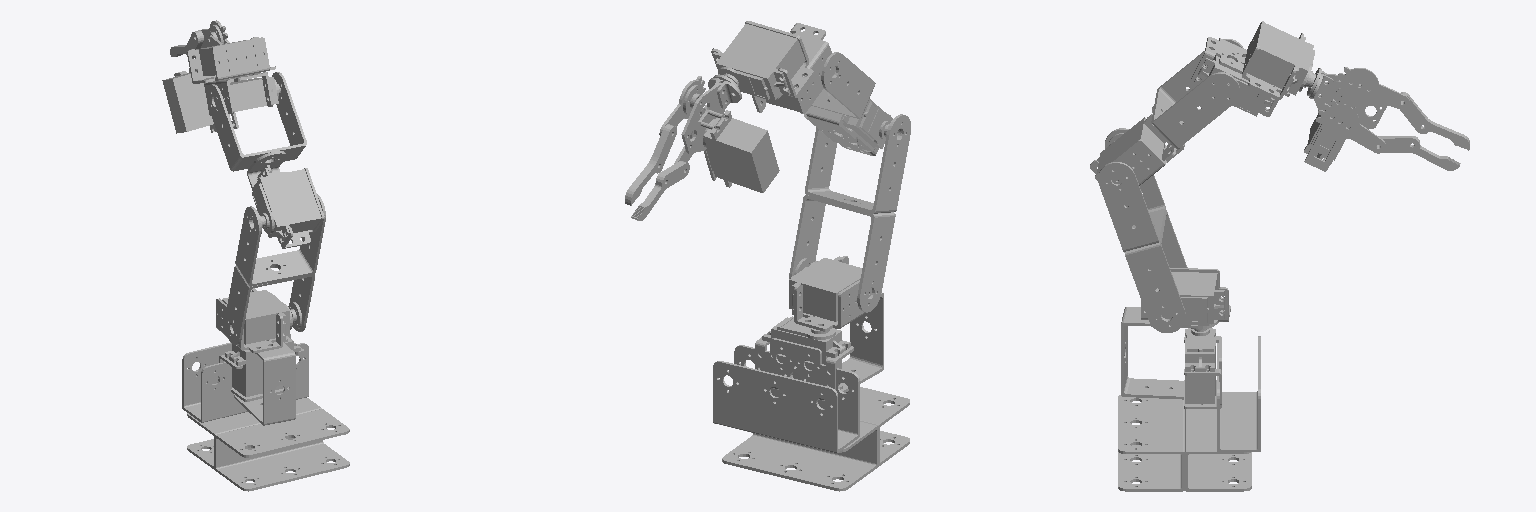
The robot description file, URDF, robot "robotic_arm_model_v3":
<?xml version="1.0" encoding="utf-8"?>
<!-- This URDF was automatically created by SolidWorks to URDF Exporter! Originally created by Stephen Brawner (brawner@gmail.com) 
     Commit Version: 1.6.0-4-g7f85cfe  Build Version: 1.6.7995.38578
     For more information, please see http://wiki.ros.org/sw_urdf_exporter -->
<robot
  name="robotic_arm_model_v3">

  <!-- Dummy world link to avoid root inertia issues -->
  <link name="world"/>

  <joint name="world_joint" type="fixed">
    <parent link="world"/>
    <child link="base_link"/>
    <origin xyz="0 0 0" rpy="0 0 0"/>
  </joint>

  <!-- ros2_control hardware interface is defined in robotic_arm_model_v3.ros2_control.xacro
       (conditionally selects mock_components or gz_ros2_control based on use_sim arg) -->

  <link
    name="base_link">
    <inertial>
      <origin
        xyz="0.009405300070128 0.001393067806921 -0.004641259829701"
        rpy="0 0 0" />
      <mass
        value="0.0953444546366154" />
      <inertia
        ixx="2.6536038073633E-05"
        ixy="1.95760719485949E-08"
        ixz="1.32399943739737E-07"
        iyy="5.93899507525617E-05"
        iyz="-1.60400346152967E-07"
        izz="5.70826120419313E-05" />
    </inertial>
    <visual>
      <origin
        xyz="0 0 0"
        rpy="0 0 0" />
      <geometry>
        <mesh
          filename="package://robotic_arm_model_v3/meshes/base_link.STL" />
      </geometry>
      <material
        name="">
        <color
          rgba="0.752941176470588 0.752941176470588 0.752941176470588 1" />
      </material>
    </visual>
    <collision>
      <origin
        xyz="0 0 0"
        rpy="0 0 0" />
      <geometry>
        <mesh
          filename="package://robotic_arm_model_v3/meshes/base_link.STL" />
      </geometry>
    </collision>
  </link>
  <link
    name="link_1">
    <inertial>
      <origin
        xyz="-0.00834673768181471 0.0592848892623843 -0.0104318358374892"
        rpy="0 0 0" />
      <mass
        value="0.0465317343045152" />
      <inertia
        ixx="1.28967179873653E-05"
        ixy="-1.15476212501747E-07"
        ixz="-2.00612047421852E-06"
        iyy="1.41046479531017E-05"
        iyz="1.1020913809783E-07"
        izz="1.28042688740714E-05" />
    </inertial>
    <visual>
      <origin
        xyz="0 0 0"
        rpy="0 0 0" />
      <geometry>
        <mesh
          filename="package://robotic_arm_model_v3/meshes/link_1.STL" />
      </geometry>
      <material
        name="">
        <color
          rgba="0.752941176470588 0.752941176470588 0.752941176470588 1" />
      </material>
    </visual>
    <collision>
      <origin
        xyz="0 0 0"
        rpy="0 0 0" />
      <geometry>
        <mesh
          filename="package://robotic_arm_model_v3/meshes/link_1.STL" />
      </geometry>
    </collision>
  </link>
  <joint
    name="joint_1"
    type="continuous">
    <origin
      xyz="0 0 0"
      rpy="1.57079632679489 0 2.30611320700167" />
    <parent
      link="base_link" />
    <child
      link="link_1" />
    <axis
      xyz="0 1 0" />
  </joint>
  <link
    name="link_2">
    <inertial>
      <origin
        xyz="-0.00411555735719493 -0.049078206685355 0.0151869177885336"
        rpy="0 0 0" />
      <mass
        value="0.0196331437668371" />
      <inertia
        ixx="8.60828290211513E-06"
        ixy="-6.25849778733872E-07"
        ixz="-2.65465712392E-06"
        iyy="1.03763652187604E-05"
        iyz="1.48452113073735E-06"
        izz="1.38316237538039E-05" />
    </inertial>
    <visual>
      <origin
        xyz="0 0 0"
        rpy="0 0 0" />
      <geometry>
        <mesh
          filename="package://robotic_arm_model_v3/meshes/link_2.STL" />
      </geometry>
      <material
        name="">
        <color
          rgba="0.752941176470588 0.752941176470588 0.752941176470588 1" />
      </material>
    </visual>
    <collision>
      <origin
        xyz="0 0 0"
        rpy="0 0 0" />
      <geometry>
        <mesh
          filename="package://robotic_arm_model_v3/meshes/link_2.STL" />
      </geometry>
    </collision>
  </link>
  <joint
    name="joint_2"
    type="continuous">
    <origin
      xyz="-0.0138083245935496 0.068000000000025 -0.0144682470230701"
      rpy="0.487759968766331 -0.418616983762083 -2.88954100737179" />
    <parent
      link="link_1" />
    <child
      link="link_2" />
    <axis
      xyz="0.920715361532496 0.00279090919548267 0.390224850392627" />
  </joint>
  <link
    name="link_3">
    <inertial>
      <origin
        xyz="-0.00444665491595117 0.0223202695441407 -0.0051826332827376"
        rpy="0 0 0" />
      <mass
        value="0.0527193093497026" />
      <inertia
        ixx="1.35233138733539E-05"
        ixy="-6.51337467875411E-07"
        ixz="-2.45290637972249E-06"
        iyy="1.23208076947286E-05"
        iyz="1.80348552476092E-06"
        izz="1.78382591990529E-05" />
    </inertial>
    <visual>
      <origin
        xyz="0 0 0"
        rpy="0 0 0" />
      <geometry>
        <mesh
          filename="package://robotic_arm_model_v3/meshes/link_3.STL" />
      </geometry>
      <material
        name="">
        <color
          rgba="0.752941176470588 0.752941176470588 0.752941176470588 1" />
      </material>
    </visual>
    <collision>
      <origin
        xyz="0 0 0"
        rpy="0 0 0" />
      <geometry>
        <mesh
          filename="package://robotic_arm_model_v3/meshes/link_3.STL" />
      </geometry>
    </collision>
  </link>
  <joint
    name="joint_3"
    type="continuous">
    <origin
      xyz="-0.0119074417178174 -0.0981728744551971 0.0287975674965246"
      rpy="1.80745265681979 0.329024616838329 -2.7178037075307" />
    <parent
      link="link_2" />
    <child
      link="link_3" />
    <axis
      xyz="0.920648187108123 0.00215985289631038 0.390387308464289" />
  </joint>
  <link
    name="link_4">
    <inertial>
      <origin
        xyz="0.000679680189158427 0.0122665484010172 0.0211158228699408"
        rpy="0 0 0" />
      <mass
        value="0.0734303247852995" />
      <inertia
        ixx="1.38233645740411E-05"
        ixy="8.6105149109657E-07"
        ixz="-2.17371805042538E-06"
        iyy="1.39325618061798E-05"
        iyz="-2.30776403396361E-06"
        izz="1.90390713182634E-05" />
    </inertial>
    <visual>
      <origin
        xyz="0 0 0"
        rpy="0 0 0" />
      <geometry>
        <mesh
          filename="package://robotic_arm_model_v3/meshes/link_4.STL" />
      </geometry>
      <material
        name="">
        <color
          rgba="0.752941176470588 0.752941176470588 0.752941176470588 1" />
      </material>
    </visual>
    <collision>
      <origin
        xyz="0 0 0"
        rpy="0 0 0" />
      <geometry>
        <mesh
          filename="package://robotic_arm_model_v3/meshes/link_4.STL" />
      </geometry>
    </collision>
  </link>
  <joint
    name="joint_4"
    type="continuous">
    <origin
      xyz="0.00878557194232471 0.0942863948762117 -0.0213160274962212"
      rpy="1.88194305720519 0.267396255637506 -2.83688714663628" />
    <parent
      link="link_3" />
    <child
      link="link_4" />
    <axis
      xyz="0.951231015101869 -0.0451134015264652 0.305162803944024" />
  </joint>
  <link
    name="end_effector_link">
    <inertial>
      <origin
        xyz="0.0116216152043773 0.0349808533080098 0.0434473674467331"
        rpy="0 0 0" />
      <mass
        value="0.0389627028541521" />
      <inertia
        ixx="6.97303130486511E-06"
        ixy="-6.64245678013252E-08"
        ixz="4.48832145935513E-07"
        iyy="8.82514719864471E-06"
        iyz="1.51665927837239E-06"
        izz="6.11603879878483E-06" />
    </inertial>
    <visual>
      <origin
        xyz="0 0 0"
        rpy="0 0 0" />
      <geometry>
        <mesh
          filename="package://robotic_arm_model_v3/meshes/end_effector_link.STL" />
      </geometry>
      <material
        name="">
        <color
          rgba="0.752941176470588 0.752941176470588 0.752941176470588 1" />
      </material>
    </visual>
    <collision>
      <origin
        xyz="0 0 0"
        rpy="0 0 0" />
      <geometry>
        <mesh
          filename="package://robotic_arm_model_v3/meshes/end_effector_link.STL" />
      </geometry>
    </collision>
  </link>
  <joint
    name="end_effector_joint"
    type="continuous">
    <origin
      xyz="0.00676342832635413 0.0146630240413734 0.0400279678903513"
      rpy="2.35709760025518 0.0391610622253604 3.12744993716135" />
    <parent
      link="link_4" />
    <child
      link="end_effector_link" />
    <axis
      xyz="0.0547587819745477 0.91542357974764 0.398749477038755" />
  </joint>
  <link
    name="end_effector_top">
    <inertial>
      <origin
        xyz="3.87435145253745E-05 0.0234339581403702 0.000841242529679542"
        rpy="0 0 0" />
      <mass
        value="0.00541878938248698" />
      <inertia
        ixx="9.74218321716477E-07"
        ixy="-1.59780386358325E-07"
        ixz="2.6577437706235E-08"
        iyy="1.83945488460284E-07"
        iyz="-1.05194356912045E-07"
        izz="9.06148379800485E-07" />
    </inertial>
    <visual>
      <origin
        xyz="0 0 0"
        rpy="0 0 0" />
      <geometry>
        <mesh
          filename="package://robotic_arm_model_v3/meshes/end_effector_top.STL" />
      </geometry>
      <material
        name="">
        <color
          rgba="0.752941176470588 0.752941176470588 0.752941176470588 1" />
      </material>
    </visual>
    <collision>
      <origin
        xyz="0 0 0"
        rpy="0 0 0" />
      <geometry>
        <mesh
          filename="package://robotic_arm_model_v3/meshes/end_effector_top.STL" />
      </geometry>
    </collision>
  </link>
  <joint
    name="end_effector_top_joint"
    type="continuous">
    <origin
      xyz="0.00757296910065186 0.0540307736155723 0.00949071322529571"
      rpy="0.374047140395175 -0.00483800739810851 0.179400394246658" />
    <parent
      link="end_effector_link" />
    <child
      link="end_effector_top" />
    <axis
      xyz="0.89305742676791 -0.21881531130674 0.393151741739004" />
  </joint>
  <link
    name="end_effector_bottom">
    <inertial>
      <origin
        xyz="-0.0100436383703305 0.0180906584672467 0.0101758073062079"
        rpy="0 0 0" />
      <mass
        value="0.00541878938248692" />
      <inertia
        ixx="9.42591425166675E-07"
        ixy="2.1041113176002E-07"
        ixz="1.38030539343974E-07"
        iyy="3.73508468144874E-07"
        iyz="-2.79600579434092E-07"
        izz="7.48212296665688E-07" />
    </inertial>
    <visual>
      <origin
        xyz="0 0 0"
        rpy="0 0 0" />
      <geometry>
        <mesh
          filename="package://robotic_arm_model_v3/meshes/end_effector_bottom.STL" />
      </geometry>
      <material
        name="">
        <color
          rgba="0.752941176470588 0.752941176470588 0.752941176470588 1" />
      </material>
    </visual>
    <collision>
      <origin
        xyz="0 0 0"
        rpy="0 0 0" />
      <geometry>
        <mesh
          filename="package://robotic_arm_model_v3/meshes/end_effector_bottom.STL" />
      </geometry>
    </collision>
  </link>
  <joint
    name="end_effector_bottom_joint"
    type="continuous">
    <origin
      xyz="-0.00239381353176393 0.042964858030635 0.0347750174406856"
      rpy="-0.122809784002549 -0.0302495930646647 -0.418333981513274" />
    <parent
      link="end_effector_link" />
    <child
      link="end_effector_bottom" />
    <axis
      xyz="0.940886292200749 0.180976825493297 0.286322150353576" />
  </joint>
</robot>

--- Facts derived from the render (not from the file) ---
The picture shows the robot from 3 angles, left to right: view 1: azimuth 30°, elevation 25°; view 2: azimuth 150°, elevation 25°; view 3: azimuth 270°, elevation 25°; orthographic projection.
Robot: robotic_arm_model_v3 — 9 links, 8 joints (7 continuous, 1 fixed); root link world; default pose: every joint at zero.
Links seen in each view (by area): view 1: base_link, link_3, link_2, link_1, link_4, end_effector_link, end_effector_top; view 2: base_link, link_2, link_4, link_1, end_effector_link, link_3, end_effector_top, end_effector_bottom; view 3: base_link, link_2, link_3, link_4, link_1, end_effector_top, end_effector_bottom, end_effector_link.
Link boxes in pixels (left/top/right/bottom): base_link: left=182, top=334, right=349, bottom=491; link_3: left=207, top=72, right=324, bottom=248; link_2: left=225, top=194, right=325, bottom=344; link_1: left=216, top=288, right=295, bottom=425; link_4: left=187, top=37, right=280, bottom=115; end_effector_link: left=162, top=35, right=238, bottom=133; end_effector_top: left=170, top=20, right=229, bottom=58; base_link: left=713, top=316, right=909, bottom=491; link_2: left=789, top=114, right=910, bottom=312; link_4: left=711, top=21, right=835, bottom=113; link_1: left=789, top=256, right=883, bottom=392; end_effector_link: left=681, top=74, right=779, bottom=192; link_3: left=804, top=52, right=892, bottom=155; end_effector_top: left=625, top=76, right=705, bottom=205; end_effector_bottom: left=631, top=105, right=706, bottom=220; base_link: left=1118, top=328, right=1260, bottom=491; link_2: left=1098, top=128, right=1187, bottom=332; link_3: left=1090, top=39, right=1243, bottom=188; link_4: left=1191, top=21, right=1314, bottom=116; link_1: left=1121, top=268, right=1230, bottom=399; end_effector_top: left=1336, top=67, right=1469, bottom=150; end_effector_bottom: left=1316, top=99, right=1460, bottom=170; end_effector_link: left=1304, top=68, right=1387, bottom=171.
Bounding box of the posed robot: 0.0913 × 0.2504 × 0.3132 m (x, y, z).
8 mesh visuals loaded from 8 distinct referenced files (8 binary STL).
